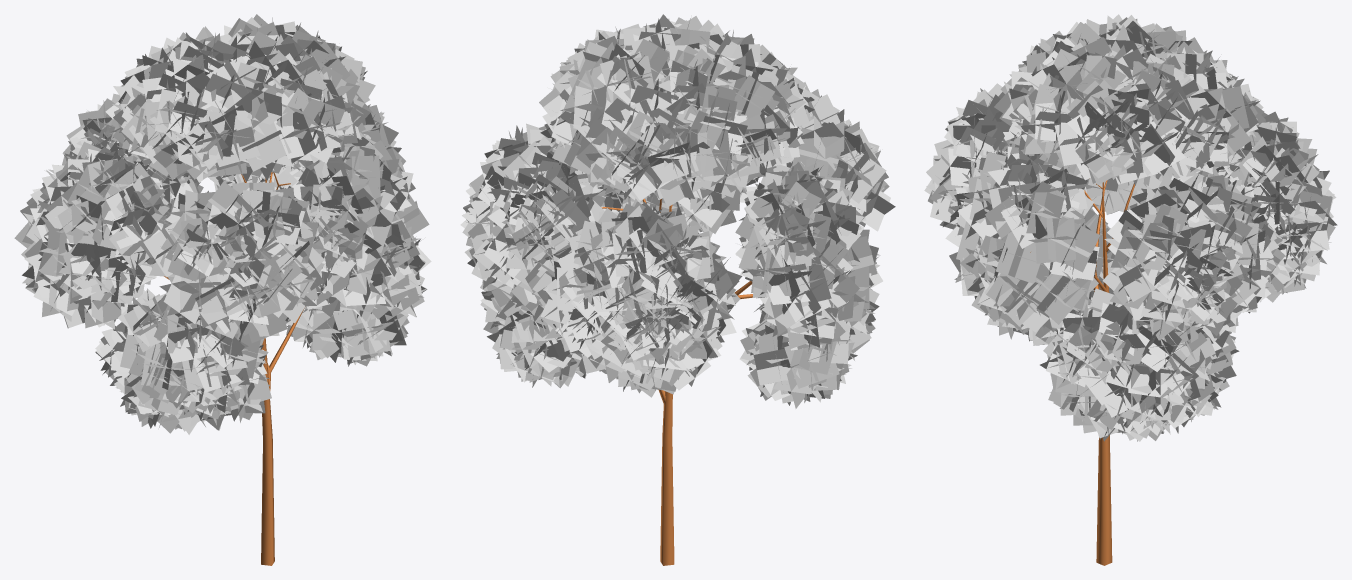
3 views of the same model, side by side, from view 1: azimuth 30°, elevation 25°; view 2: azimuth 150°, elevation 25°; view 3: azimuth 270°, elevation 25° (orthographic). The views are drawn at different scales.
Parts seen in each view (by area): view 1: 叶子们2, 树干; view 2: 叶子们2, 树干; view 3: 叶子们2, 树干.
Part boxes in pixels (x1=…): 叶子们2: x1=14, y1=14, x2=431, y2=434; 树干: x1=164, y1=172, x2=305, y2=565; 叶子们2: x1=460, y1=14, x2=895, y2=408; 树干: x1=601, y1=198, x2=752, y2=565; 叶子们2: x1=924, y1=14, x2=1337, y2=441; 树干: x1=1030, y1=178, x2=1134, y2=565.
Size of the model in its own units: 543 by 728 by 524.
